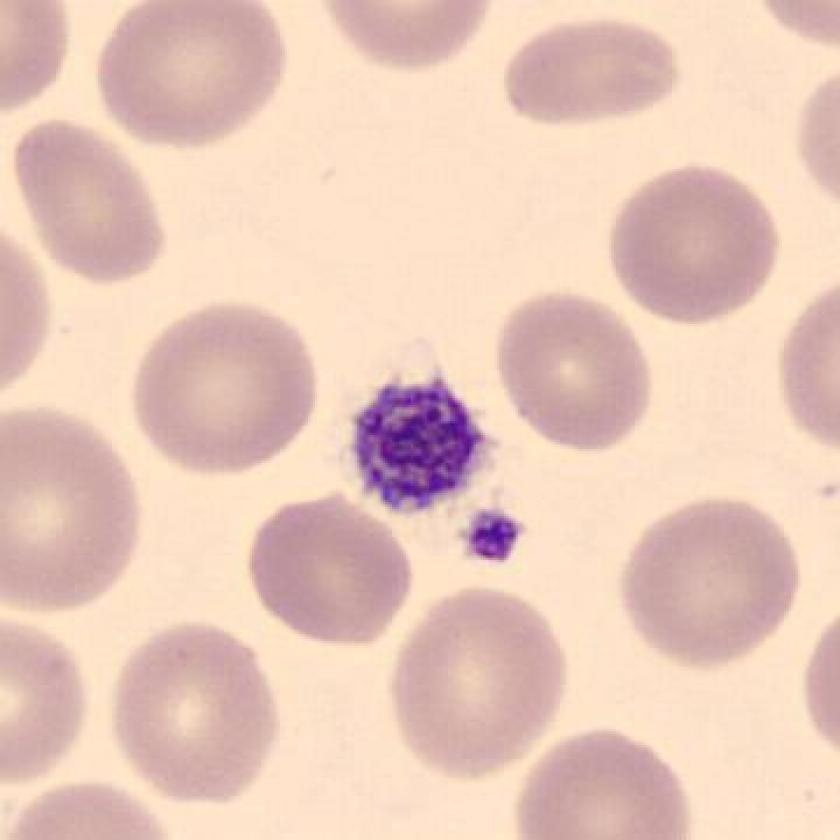platelets: (342, 358, 496, 534)
